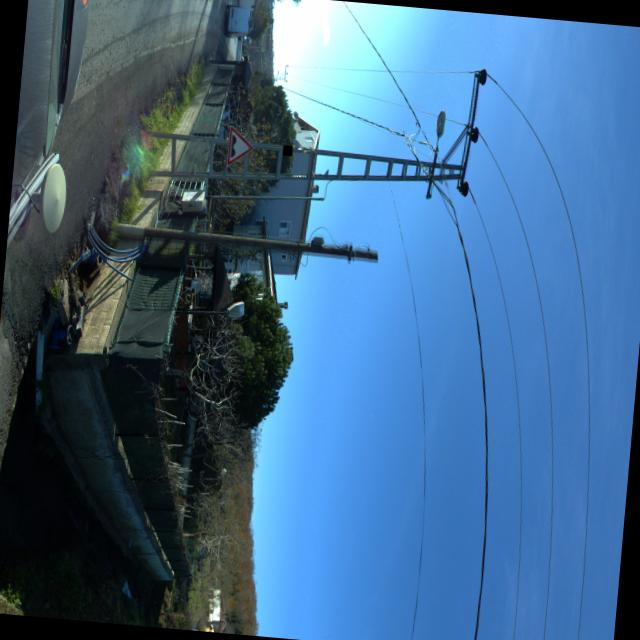Utility Pole Information Plate: (281, 145, 292, 155)
